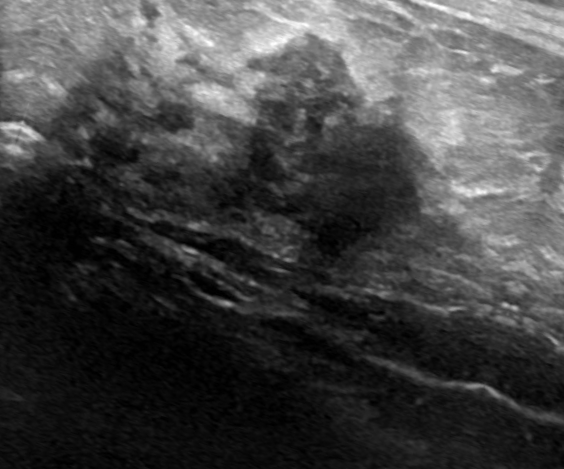Malignant: (253, 67, 415, 254)
